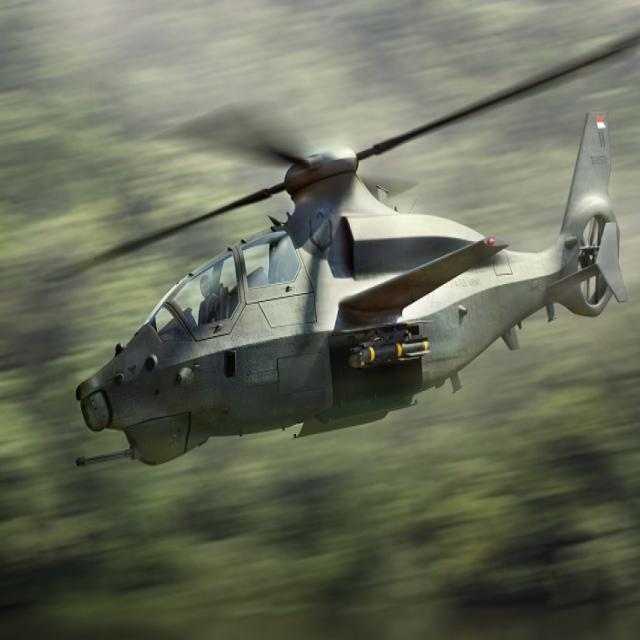helicopter: (72, 31, 640, 471)
